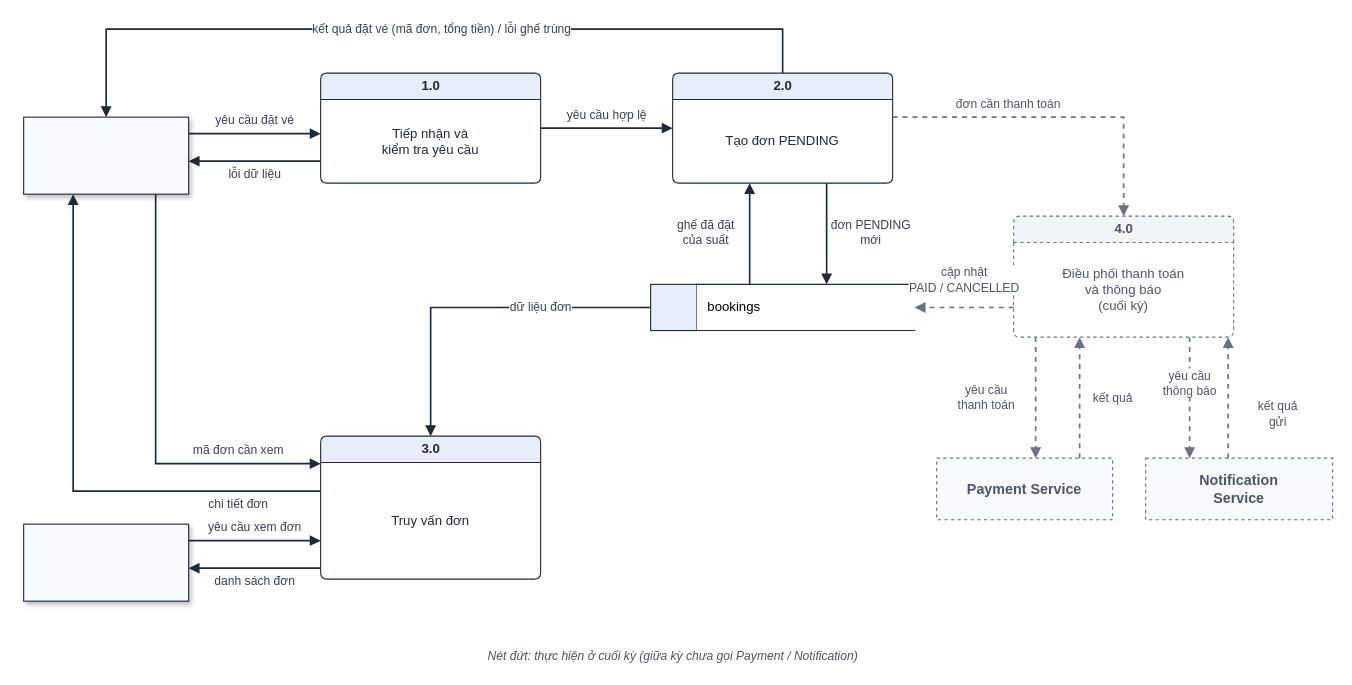
This 1352x685 diagram has some shape labels left out. Here are the shapes that lost their labels. From the top down, the centre of each, then its label:
(x=106, y=157): Khách
(x=673, y=307): D1
(x=106, y=564): Quản trị viên
